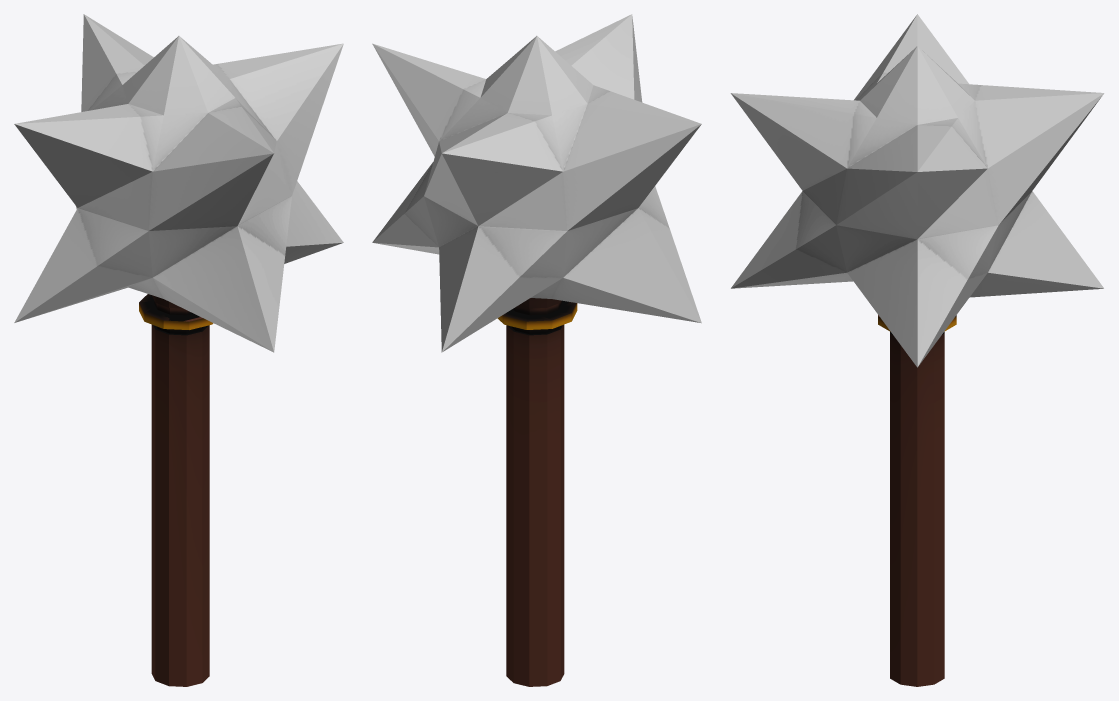
The model's file is morningstar.fbx.
The picture shows the model from 3 angles, left to right: view 1: azimuth 30°, elevation 25°; view 2: azimuth 150°, elevation 25°; view 3: azimuth 270°, elevation 25°; orthographic projection.
Parts seen in each view (by area): view 1: pCylinder3; view 2: pCylinder3; view 3: pCylinder3.
Part boxes in pixels (<box>): pCylinder3: <box>14,14,343,686</box>; pCylinder3: <box>372,14,701,686</box>; pCylinder3: <box>730,14,1104,686</box>.
Size of the model in its own units: 3.61 by 6.68 by 3.61.
